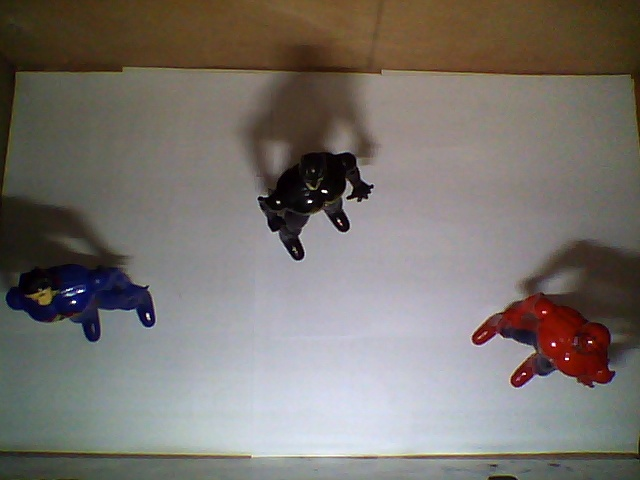human_figure: (471, 292, 615, 387), (256, 151, 374, 260), (7, 265, 157, 343)
